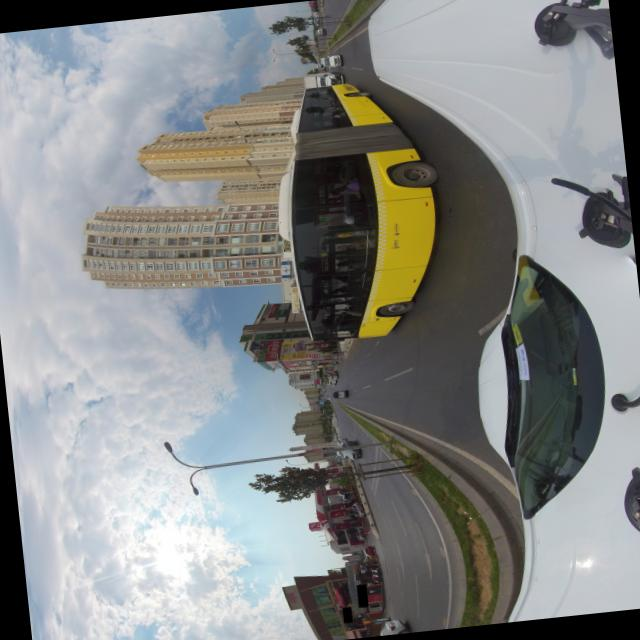SignStore: (356, 583, 368, 606), (342, 606, 352, 622)
